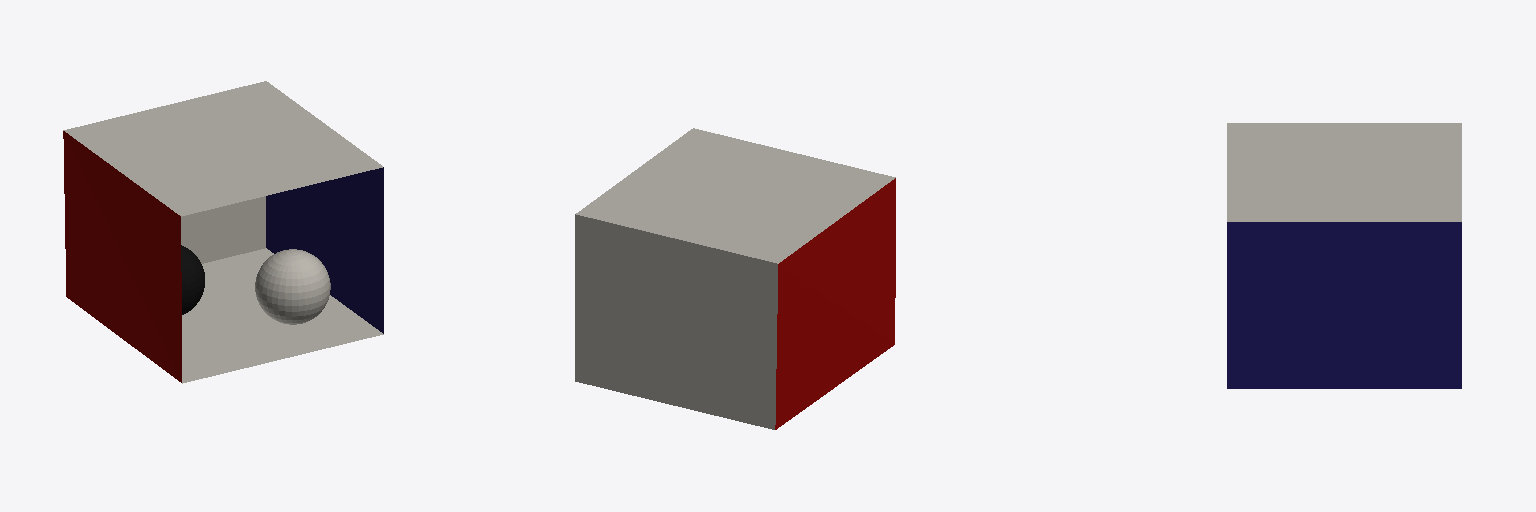
Rendered from CornellBox-Sphere.obj.
The picture shows the model from 3 angles: view 1: azimuth 30°, elevation 25°; view 2: azimuth 150°, elevation 25°; view 3: azimuth 270°, elevation 25°; orthographic projection.
Bounding box in the file's own units: 2.02 × 1.59 × 3.14.